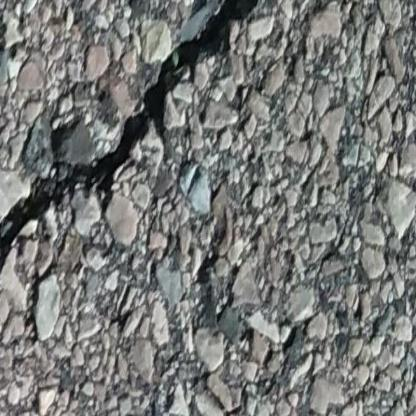Cracks: (0, 0, 280, 285)
